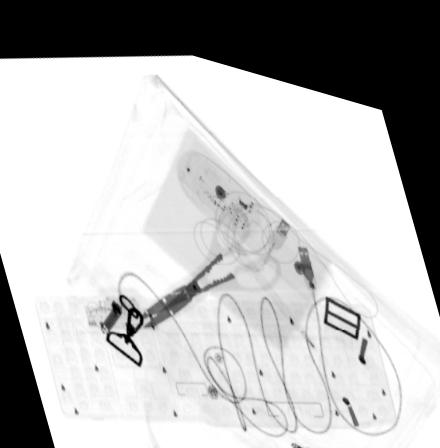Scissors: (137, 190, 279, 318)
